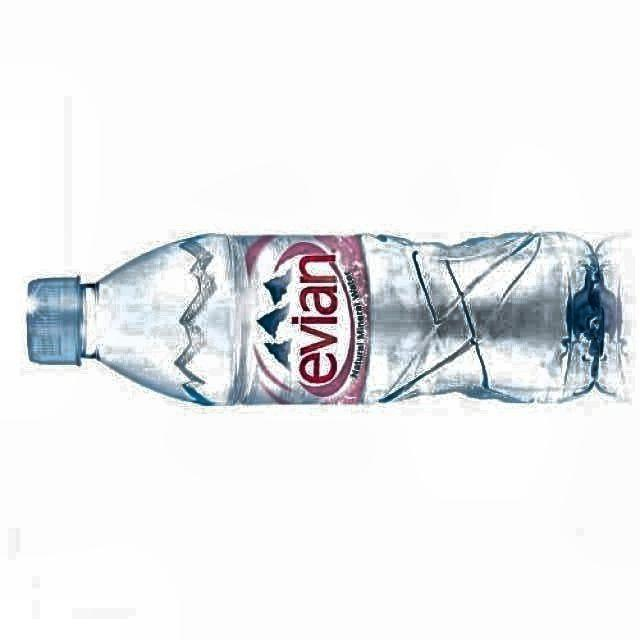plastic: (28, 232, 620, 405)
